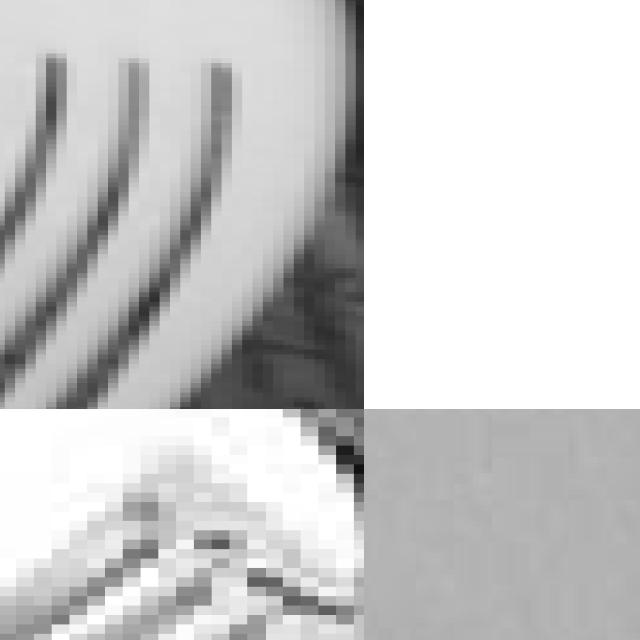forks: (0, 0, 364, 409), (0, 409, 364, 640)
